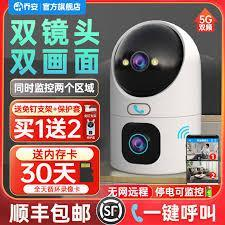maru: (107, 13, 209, 185)
